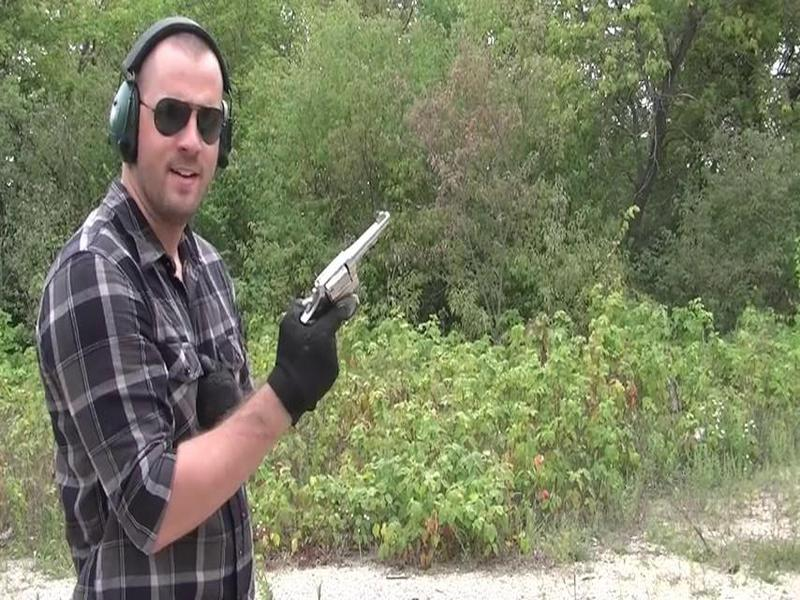Revolver: (297, 204, 394, 342)
